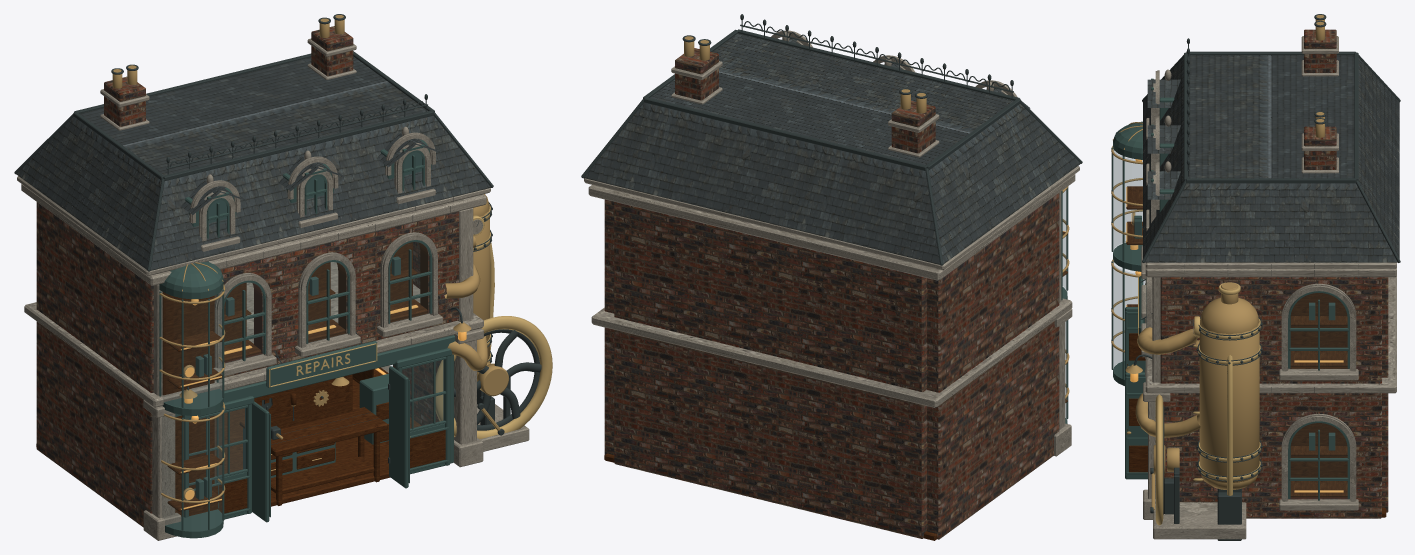
File: workshop-v1.glb
3 renders of one model, left to right at view 1: azimuth 30°, elevation 25°; view 2: azimuth 150°, elevation 25°; view 3: azimuth 270°, elevation 25°, orthographic. The views are drawn at different scales.
Visible parts, largest first — view 1: Workshop_Roof_Real slate roof, Workshop_Structure_Limestone trim, Workshop_Structure_Warm weathered brick, Workshop_Structure_Walnut end grain, Workshop_Structure_Recessed blue green glass, Workshop_Structure_Oxidised green joinery, Upper facade, Workshop_Storefront_Oxidised green joinery, Workshop_Roof_Blackened cast iron, Workshop_Roof_Limestone trim, Workshop_Structure_Aged satin brass, Workshop_Storefront_Recessed blue green glass (+12 smaller); view 2: Workshop_Structure_Warm weathered brick, Workshop_Roof_Real slate roof, Workshop_Structure_Limestone trim, Workshop_Roof_Blackened cast iron, Workshop_Roof_Warm weathered brick, Side masonry.001, Workshop_Roof_Limestone trim, Workshop_Structure_Oxidised green joinery, Workshop_Roof_Aged satin brass, Workshop_Structure_Recessed blue green glass; view 3: Workshop_Roof_Real slate roof, Side masonry.001, Workshop_Structure_Limestone trim, Workshop_Structure_Aged satin brass, Workshop_Structure_Recessed blue green glass, Workshop_Structure_Walnut end grain, Workshop_Structure_Oxidised green joinery, Workshop_Roof_Blackened cast iron, Workshop_Structure_Blackened cast iron, Workshop_Roof_Warm weathered brick, Workshop_Roof_Limestone trim, Workshop_Structure_Polished brass rims (+7 smaller).
Part boxes in pixels (x1,y1,x2,y2): Workshop_Roof_Real slate roof: [16, 56, 490, 270]; Workshop_Structure_Limestone trim: [17, 176, 529, 540]; Workshop_Structure_Warm weathered brick: [36, 202, 153, 527]; Workshop_Structure_Walnut end grain: [36, 242, 427, 516]; Workshop_Structure_Recessed blue green glass: [161, 242, 428, 530]; Workshop_Structure_Oxidised green joinery: [159, 240, 455, 538]; Upper facade: [214, 211, 458, 377]; Workshop_Storefront_Oxidised green joinery: [182, 348, 453, 522]; Workshop_Roof_Blackened cast iron: [14, 14, 493, 271]; Workshop_Roof_Limestone trim: [100, 38, 435, 251]; Workshop_Structure_Aged satin brass: [159, 194, 500, 503]; Workshop_Storefront_Recessed blue green glass: [215, 360, 443, 475]; Workshop_Structure_Warm weathered brick: [614, 193, 1059, 539]; Workshop_Roof_Real slate roof: [584, 33, 1080, 264]; Workshop_Structure_Limestone trim: [584, 166, 1079, 456]; Workshop_Roof_Blackened cast iron: [581, 14, 1082, 265]; Workshop_Roof_Warm weathered brick: [675, 48, 935, 153]; Side masonry.001: [604, 199, 614, 454]; Workshop_Roof_Limestone trim: [671, 30, 1017, 157]; Workshop_Structure_Oxidised green joinery: [1061, 187, 1068, 423]; Workshop_Roof_Aged satin brass: [684, 36, 926, 113]; Workshop_Structure_Recessed blue green glass: [1063, 189, 1067, 423]; Workshop_Roof_Real slate roof: [1143, 55, 1399, 262]; Side masonry.001: [1160, 277, 1381, 518]; Workshop_Structure_Limestone trim: [1141, 245, 1396, 539]; Workshop_Structure_Aged satin brass: [1111, 122, 1259, 509]; Workshop_Structure_Recessed blue green glass: [1113, 149, 1347, 498]; Workshop_Structure_Walnut end grain: [1126, 186, 1386, 517]; Workshop_Structure_Oxidised green joinery: [1111, 121, 1349, 500]; Workshop_Roof_Blackened cast iron: [1142, 14, 1400, 262]; Workshop_Structure_Blackened cast iron: [1133, 226, 1262, 540]; Workshop_Roof_Warm weathered brick: [1304, 29, 1336, 169]; Workshop_Roof_Limestone trim: [1146, 36, 1338, 231]; Workshop_Structure_Polished brass rims: [1138, 277, 1260, 495].
Size of the model in its own units: 10.57 by 9.56 by 6.68.
11 materials, 4 textured.
